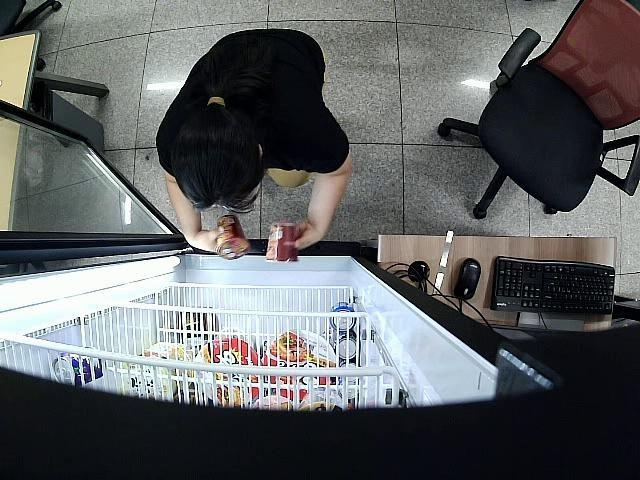06_nuguri_S: (215, 212, 250, 260), (262, 224, 302, 264)
